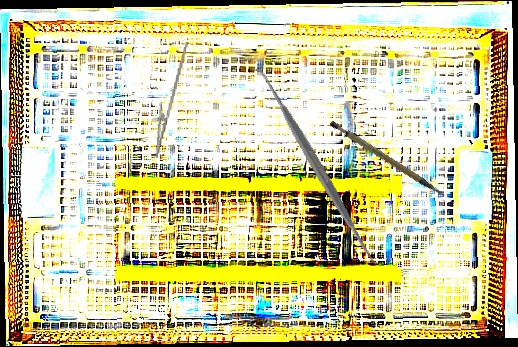Needle Holder: (146, 38, 189, 161)
Scalpel Handle: (328, 107, 446, 214)
Spatula Surgical: (246, 58, 386, 273)
